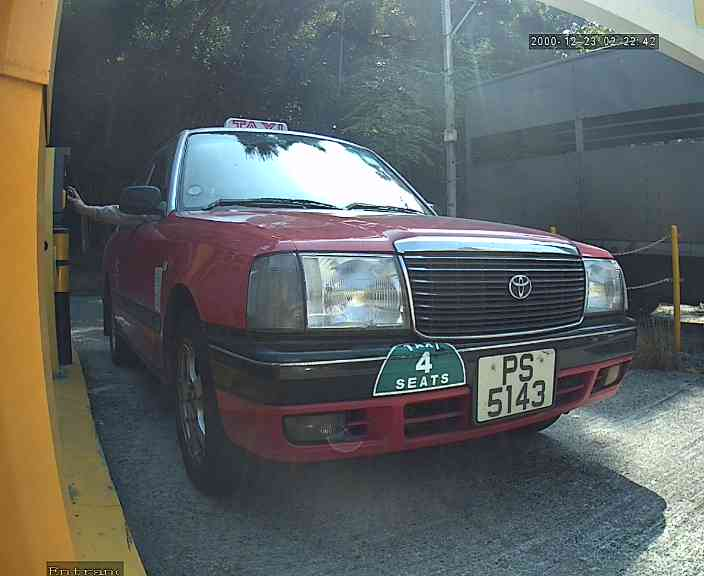taxi: (74, 71, 659, 505)
taxi_mark: (364, 335, 475, 409)
